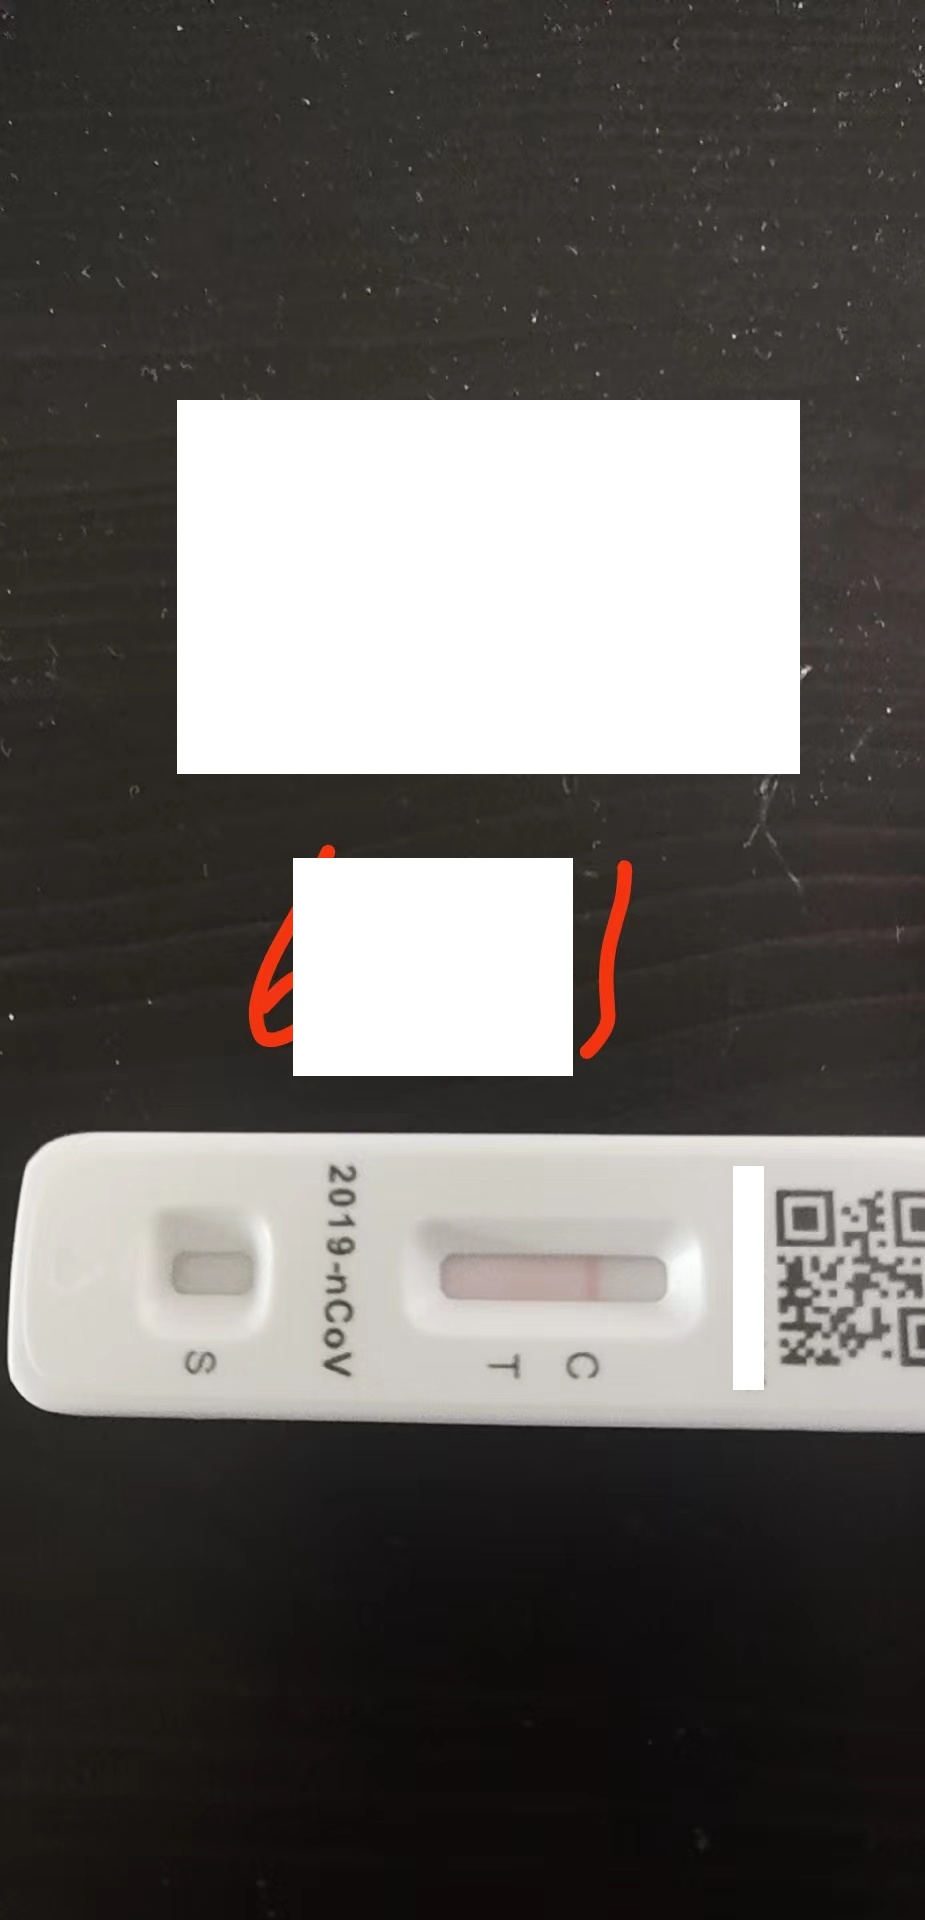negative: (408, 1224, 693, 1325)
